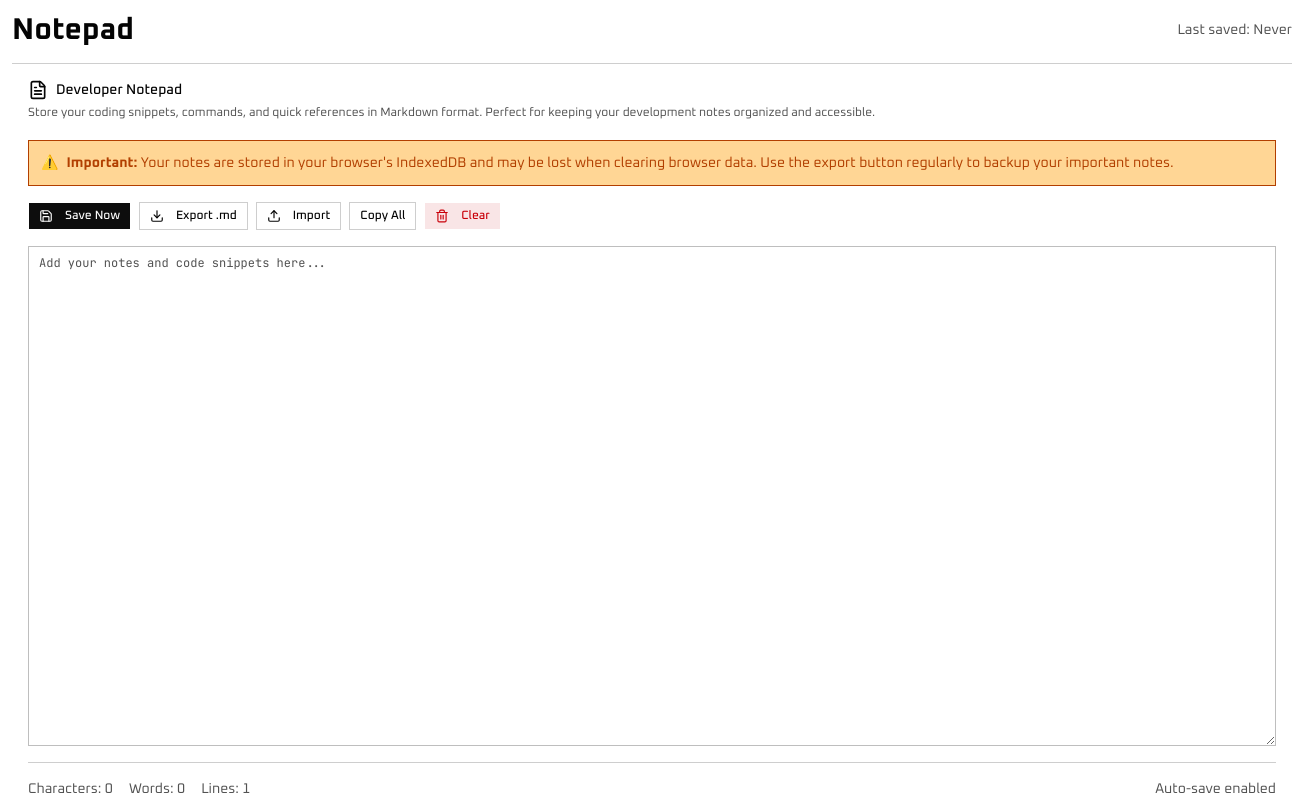
NotepadPage › clears content when clear button is clicked with confirmation
Note: Enter content
Type "Content to clear" into the text box with placeholder "Add your notes and code snippets here..." at (652, 496), box [28, 246, 1276, 746]
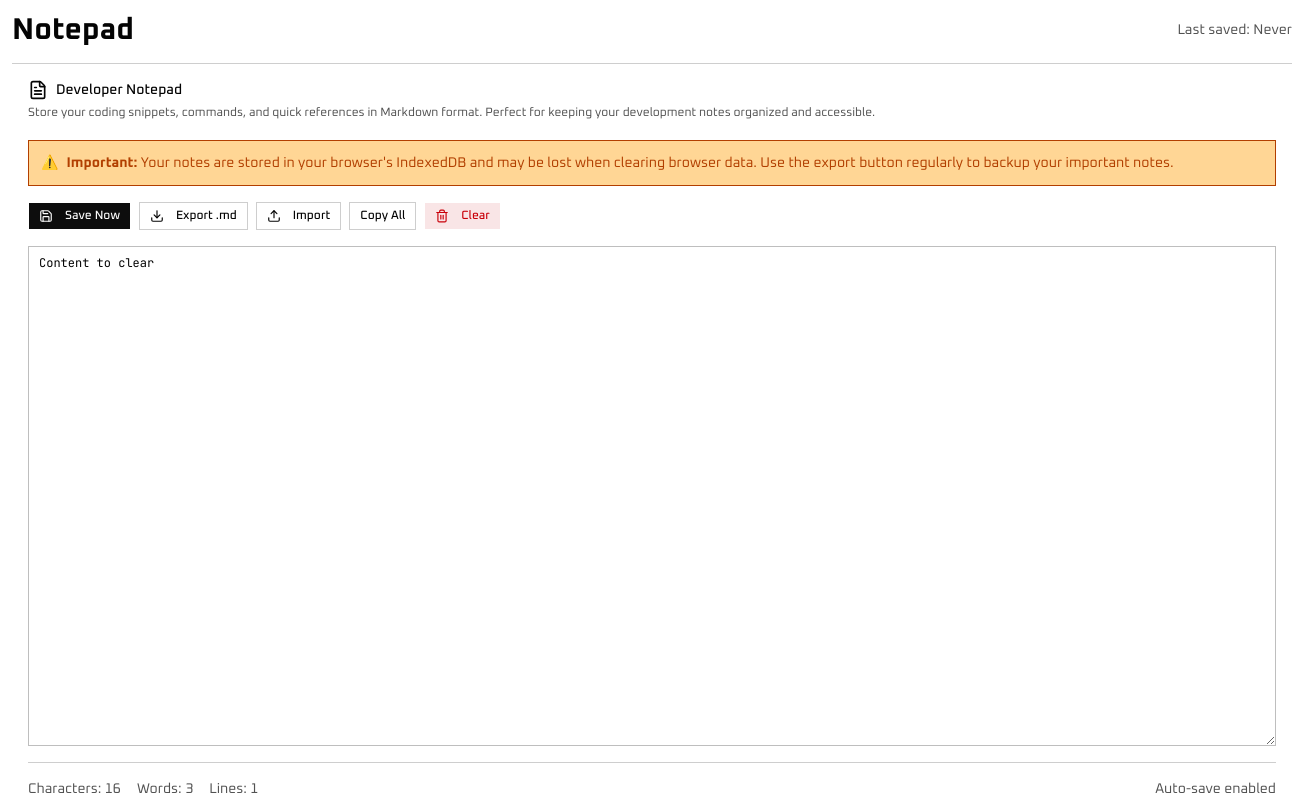
Note: Click clear
Click the button "Clear" at (463, 216), box [424, 202, 501, 230]
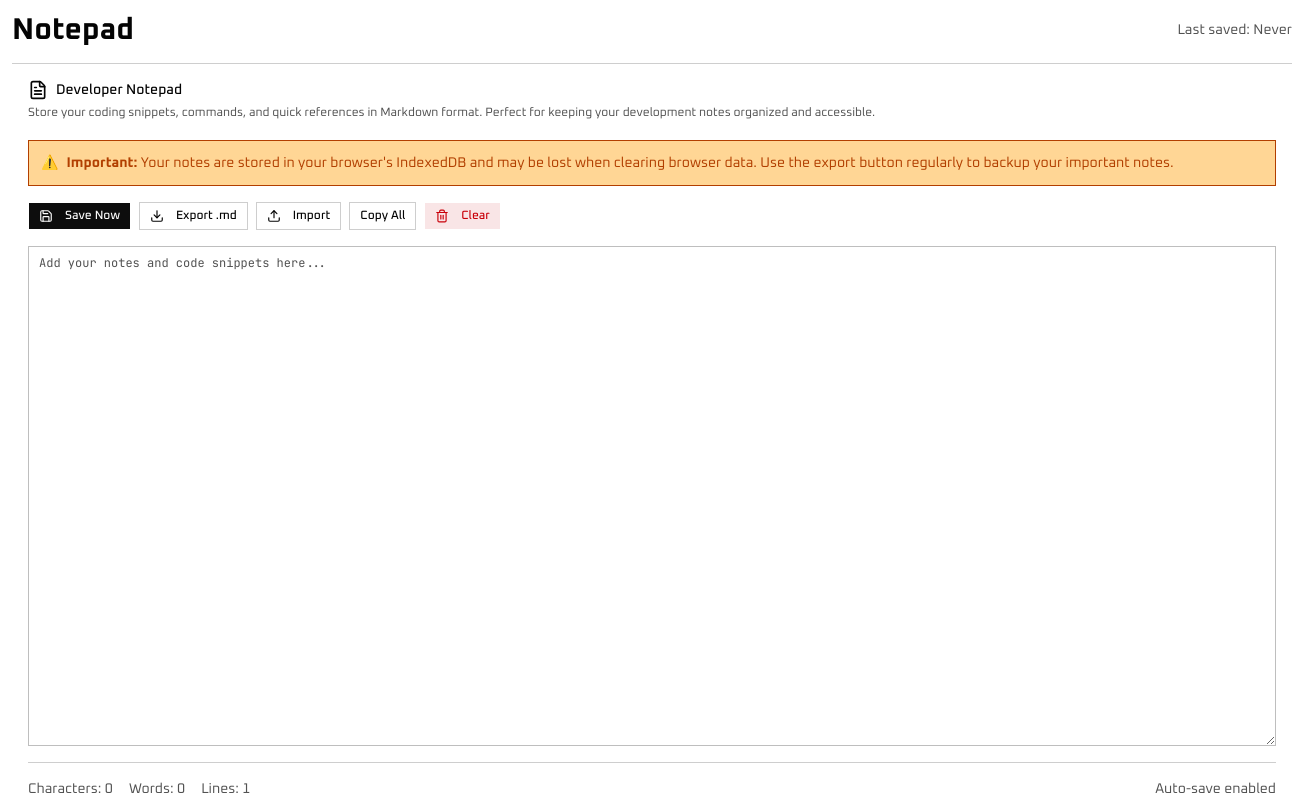
Now the text box with placeholder "Add your notes and code snippets here..." is empty, box [28, 246, 1276, 746]
